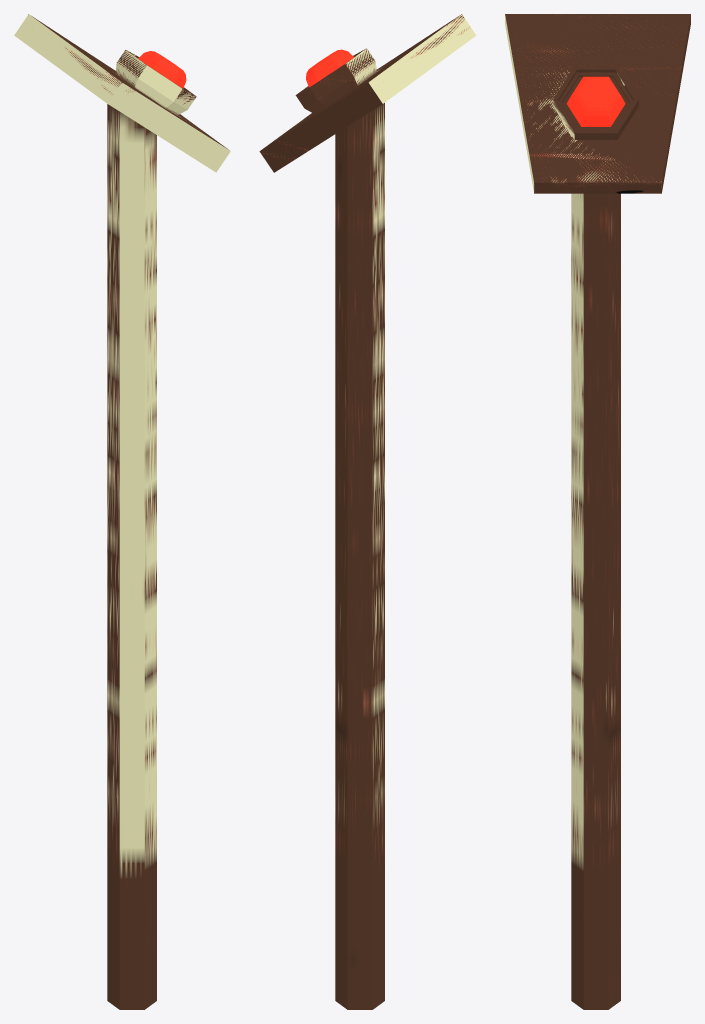
The model's file is Button_LF.glb.
The picture shows the model from 3 angles, left to right: view 1: azimuth 30°, elevation 25°; view 2: azimuth 150°, elevation 25°; view 3: azimuth 270°, elevation 25°; orthographic projection.
Parts seen in each view (by area): view 1: Button_LF; view 2: Button_LF; view 3: Button_LF.
Part boxes in pixels (x1=…): Button_LF: x1=14, y1=14, x2=230, y2=1009; Button_LF: x1=259, y1=14, x2=476, y2=1009; Button_LF: x1=505, y1=14, x2=690, y2=1009.
Size of the model in its own units: 0.5162 by 3.45 by 0.6057.
Materials: 2 (1 with a texture image).
